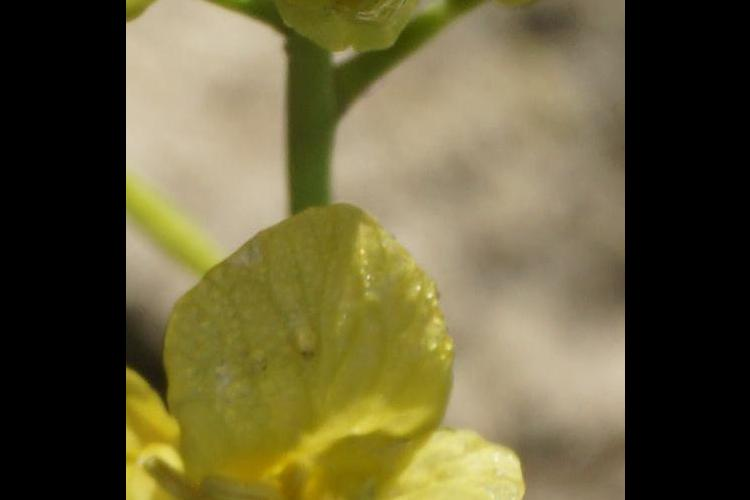yellow: (137, 230, 518, 500), (248, 1, 460, 51)
